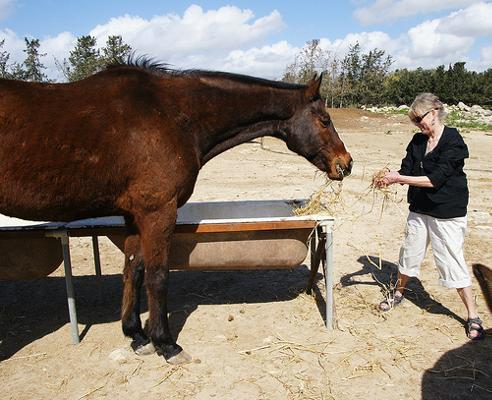person: (372, 93, 486, 343)
